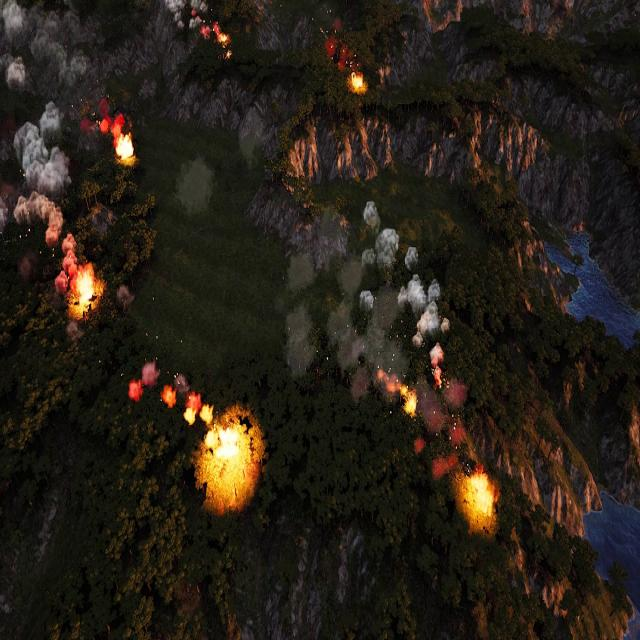fire: (127, 360, 255, 502), (106, 112, 136, 164), (463, 472, 495, 520), (71, 264, 97, 316), (204, 21, 237, 61), (394, 378, 421, 416), (431, 357, 446, 390), (350, 72, 366, 92)
smoke: (279, 199, 452, 391), (0, 0, 78, 296), (164, 0, 208, 40)
